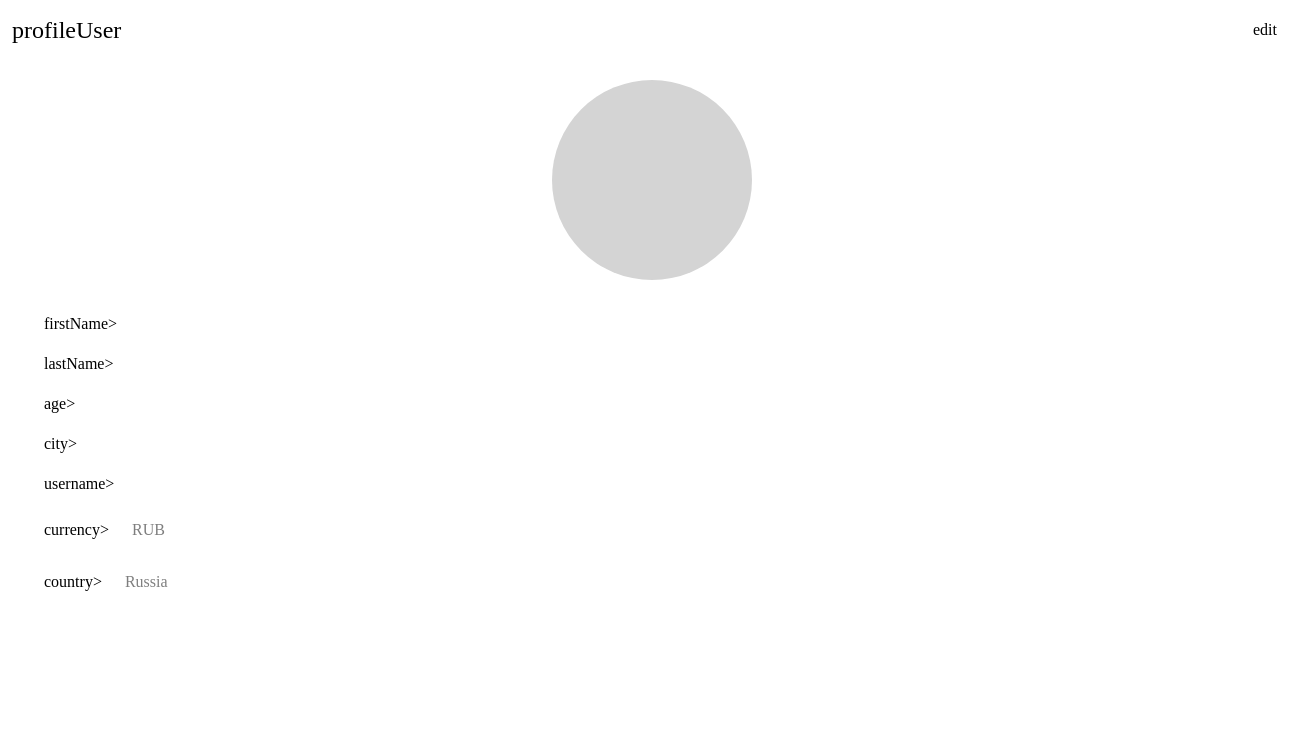
Test: test features/EditableProfileCard › The mode should change from edit to cancel
This screenshot has width=1304, height=732.
Click the switch with test id "editable-profile-card-header-edit": (1265, 30) [1238, 12, 1292, 48]
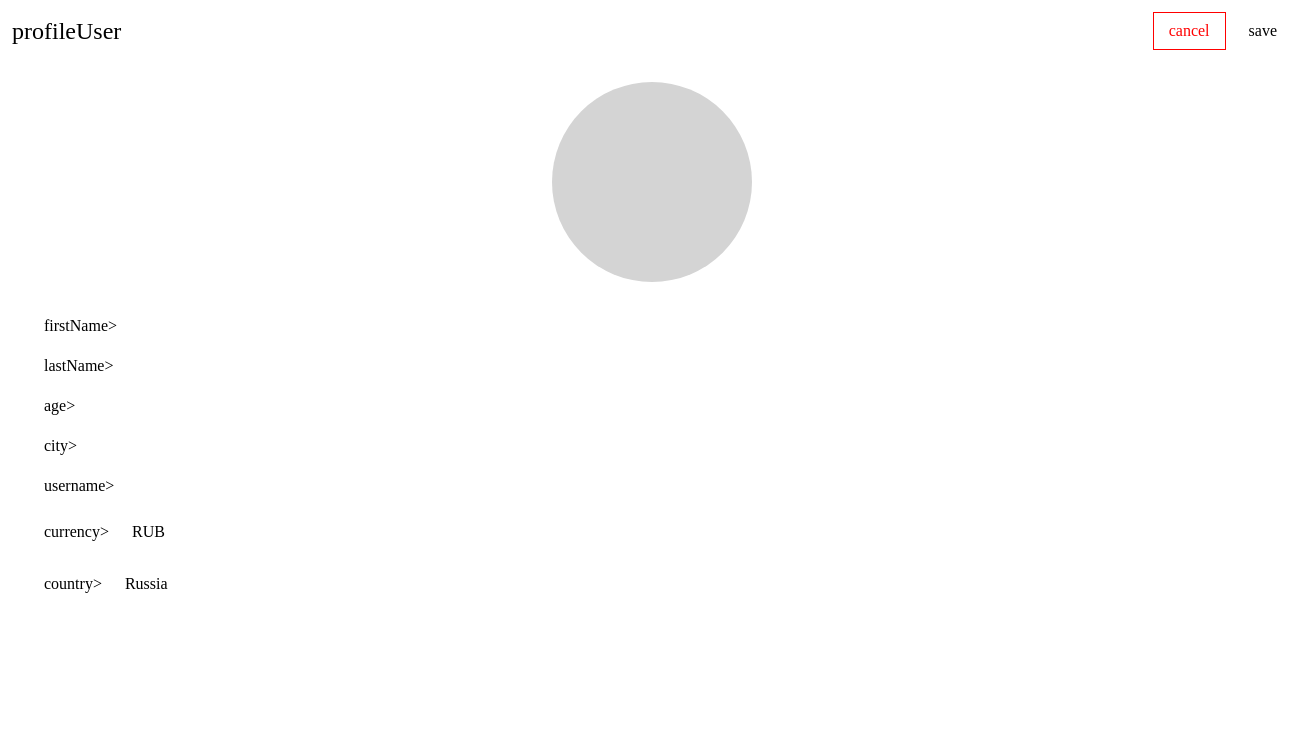
Now the switch with test id "editable-profile-card-header-cancel" is shown, box [1153, 12, 1226, 50]
